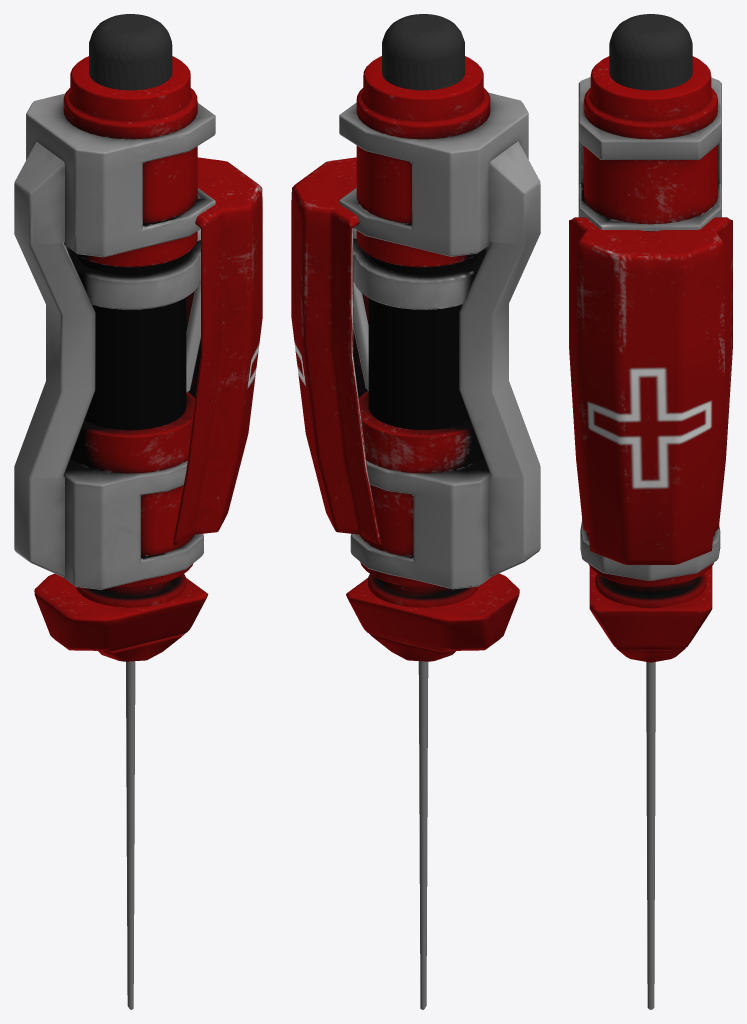
Rendered from WeaponHealthInjector_Static.fbx.
3 renders of one model, left to right at view 1: azimuth 30°, elevation 25°; view 2: azimuth 150°, elevation 25°; view 3: azimuth 270°, elevation 25°, orthographic.
Parts seen in each view (by area): view 1: Injector1, InjectorBottombase.001, Injector1.001, InjectorBottombase, InjectorButton; view 2: Injector1, InjectorBottombase.001, Injector1.001, InjectorBottombase, InjectorButton; view 3: InjectorBottombase.001, Injector1, InjectorBottombase, InjectorButton.
Part boxes in pixels (x1,y1,x2,y2): Injector1: (14,56,215,1009); InjectorBottombase.001: (173,157,262,545); Injector1.001: (76,254,186,430); InjectorBottombase: (34,573,208,661); InjectorButton: (89,14,172,90); Injector1: (339,56,540,1009); InjectorBottombase.001: (291,157,380,545); Injector1.001: (368,254,478,429); InjectorBottombase: (346,573,519,661); InjectorButton: (382,14,464,90); InjectorBottombase.001: (569,217,732,564); Injector1: (578,56,721,1009); InjectorBottombase: (589,566,712,662); InjectorButton: (609,14,692,90).
Bounding box in the file's own units: 5.28 × 3.32 × 22.06.
Materials: 1 (1 with a texture image).
